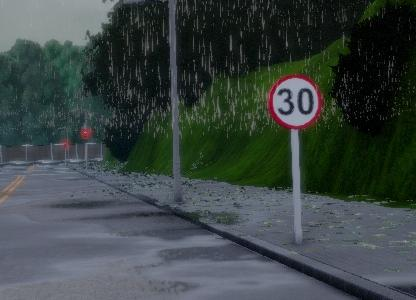Speed_30: (267, 72, 324, 132)
